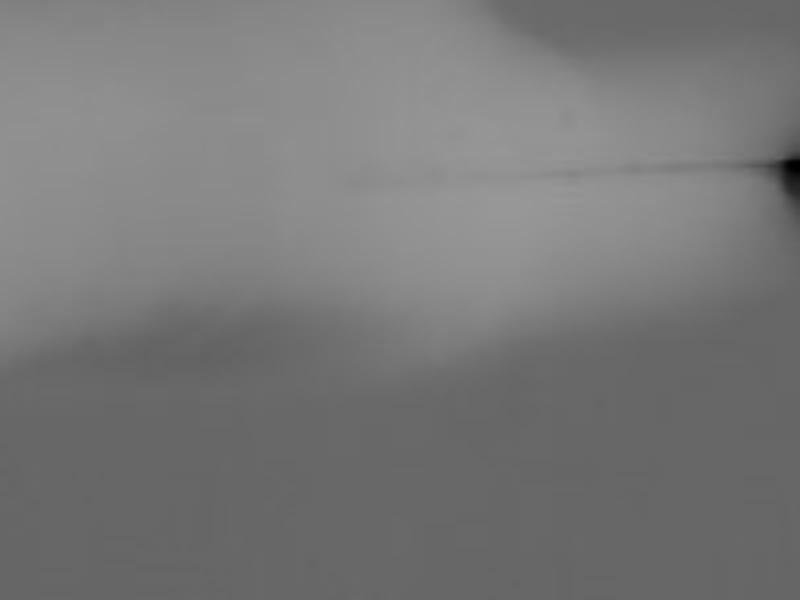defect: (773, 145, 800, 194)
